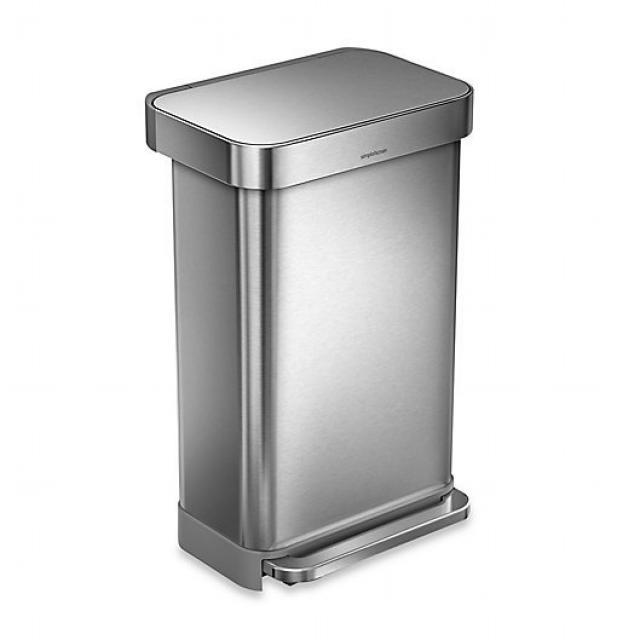Dumpster: (146, 43, 476, 595)
